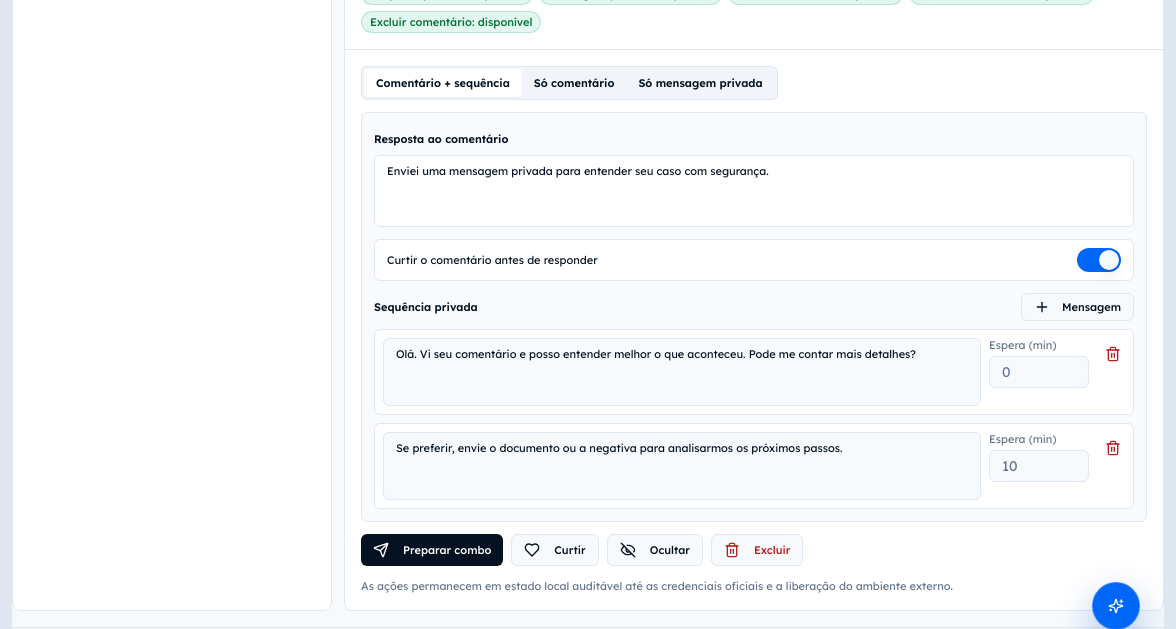
Test: SocialCommentsPage › offers a public reply followed by a configurable private sequence
The width and height of the screenshot is (1176, 629).
(page scrolled)
Check: the element named "Tipo de resposta" is shown, box [361,66,778,100]
Check: the button "Comentário + sequência" is shown, box [364,69,522,97]
Click the button "Mensagem": click(1077, 307) [1021,293,1134,321]
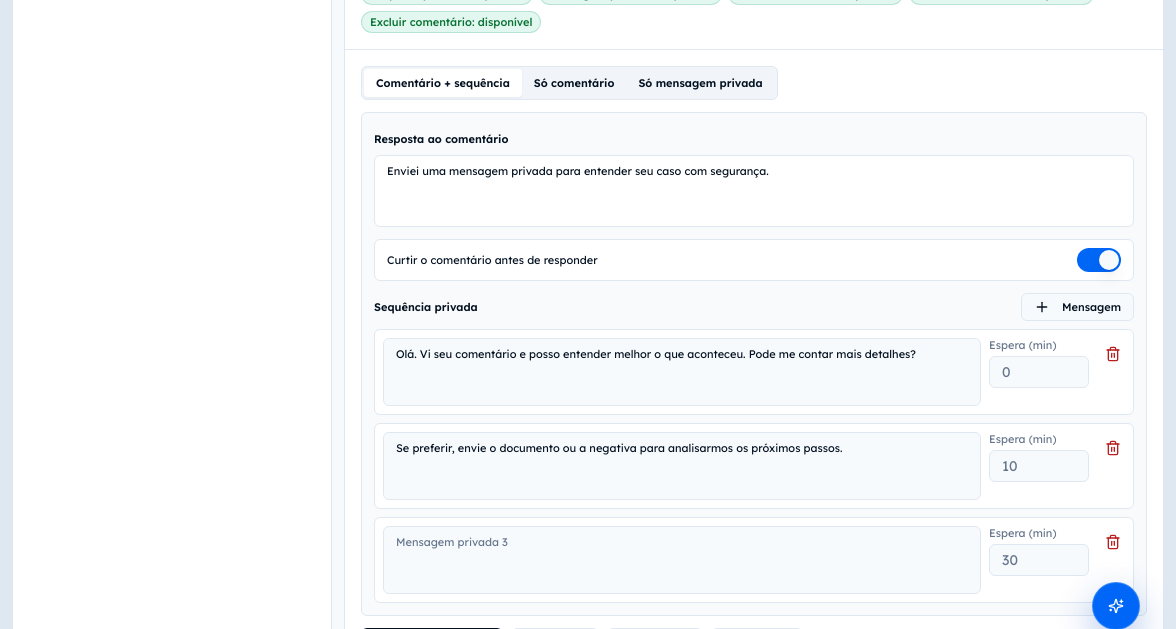
Check: the text box labelled "Mensagem privada 3" is shown, box [383,526,981,594]
